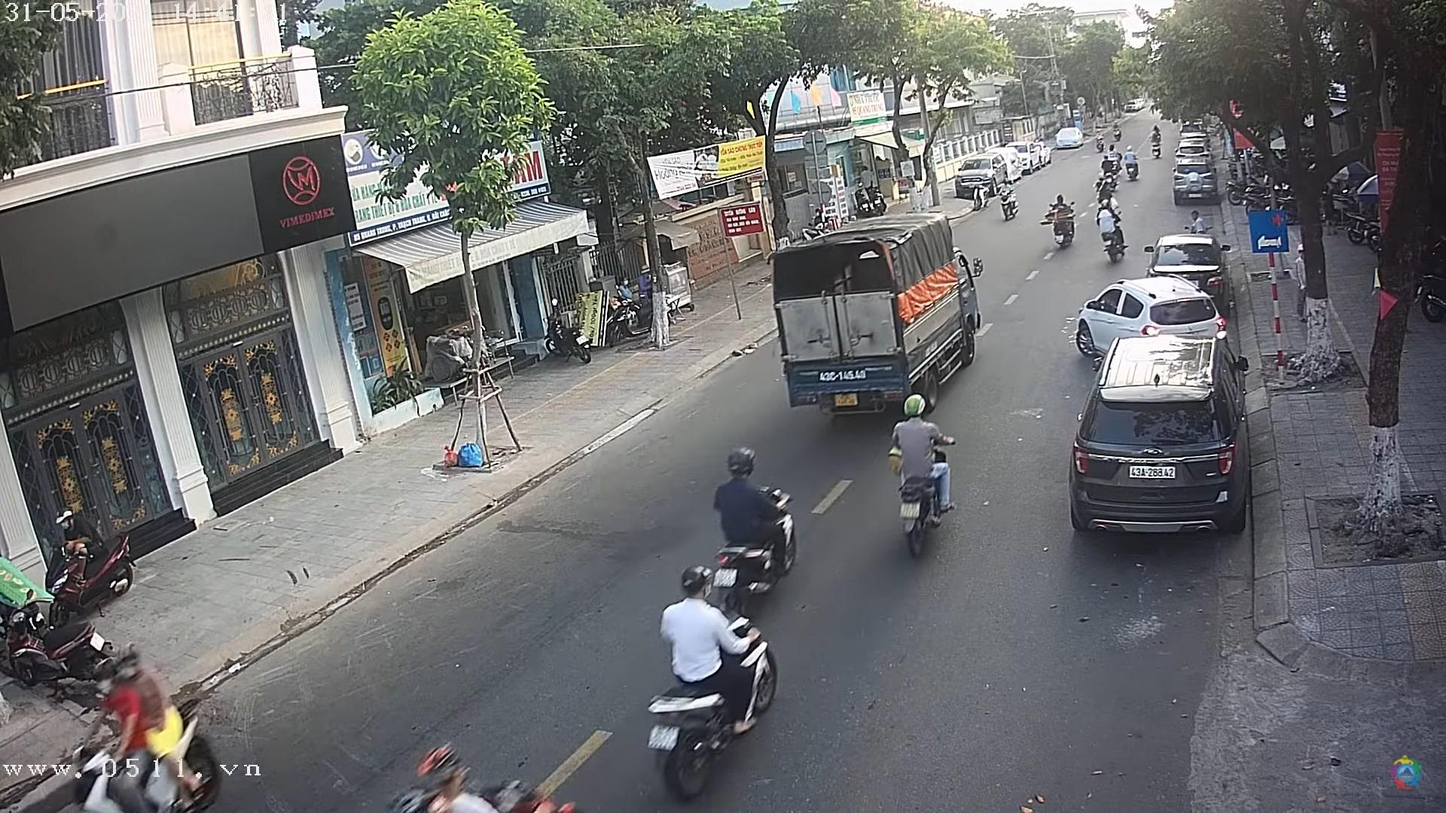car: (1069, 329, 1251, 534), (1074, 277, 1225, 360), (1150, 234, 1227, 283), (1171, 158, 1222, 205), (1055, 126, 1085, 150)
motorbike: (646, 608, 784, 799), (895, 433, 956, 566), (1100, 211, 1126, 263), (1052, 200, 1077, 251), (1001, 188, 1019, 222)
truck: (773, 219, 983, 417)
